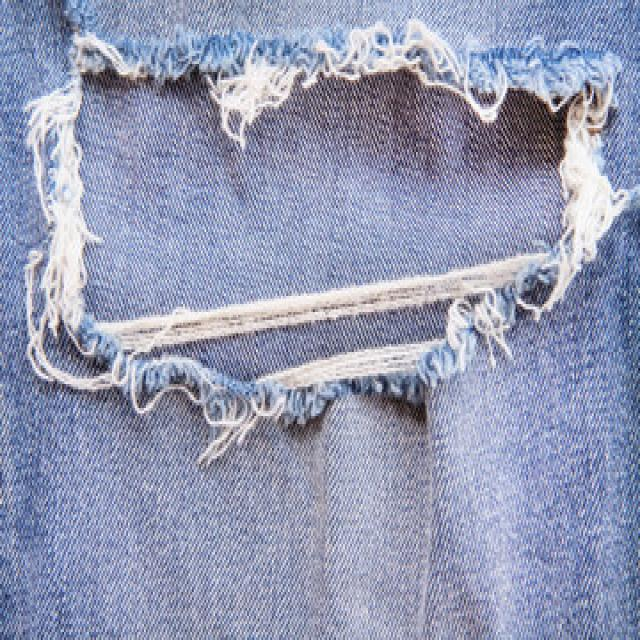Hole: (25, 1, 629, 464)
